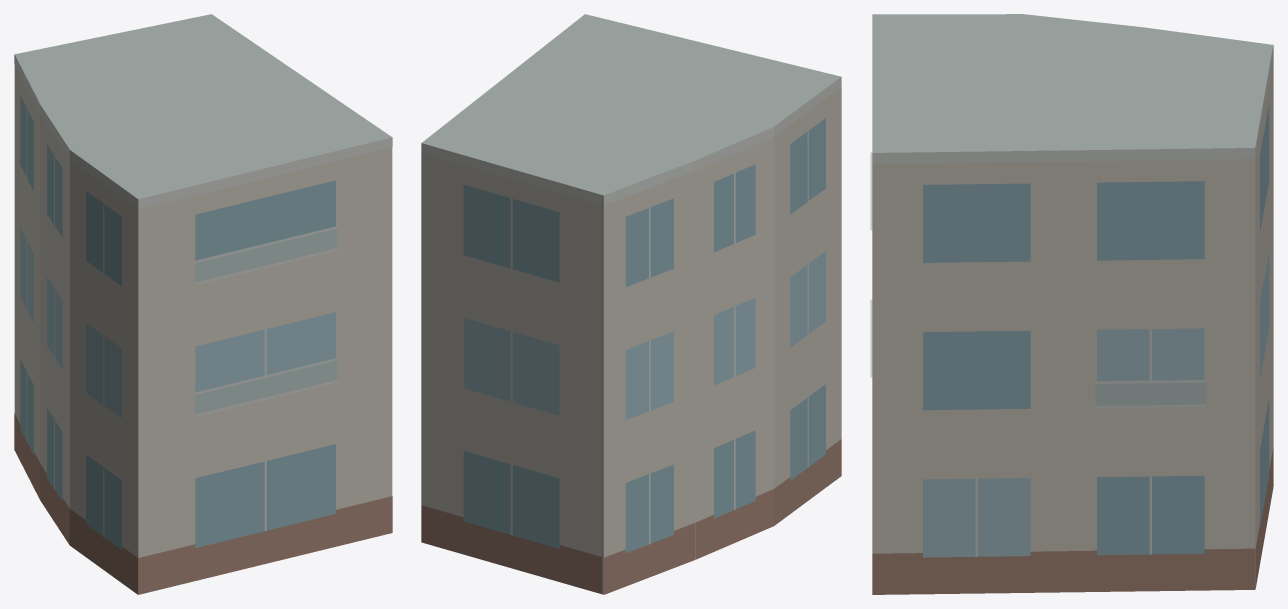
File: survey-upis-32474672.glb
The picture shows the model from 3 angles, left to right: view 1: azimuth 30°, elevation 25°; view 2: azimuth 150°, elevation 25°; view 3: azimuth 270°, elevation 25°; orthographic projection. The views are drawn at different scales.
Visible parts, largest first — view 1: survey-upis-32474672.tmp; view 2: survey-upis-32474672.tmp; view 3: survey-upis-32474672.tmp.
Boxes of the visible parts, x1,y1,x2,y2 form: survey-upis-32474672.tmp: (14, 14, 392, 594); survey-upis-32474672.tmp: (421, 14, 841, 594); survey-upis-32474672.tmp: (870, 14, 1273, 594).
Bounding box in the file's own units: 6.55 × 9.7 × 8.03.
